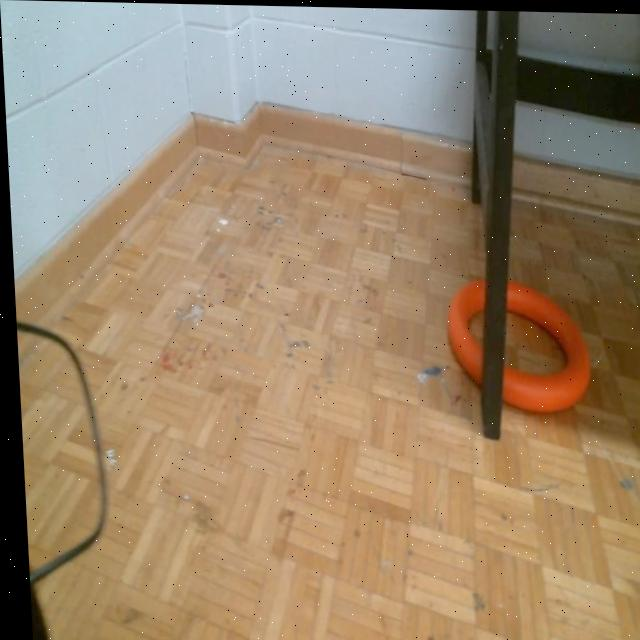note: (439, 272, 590, 411)
